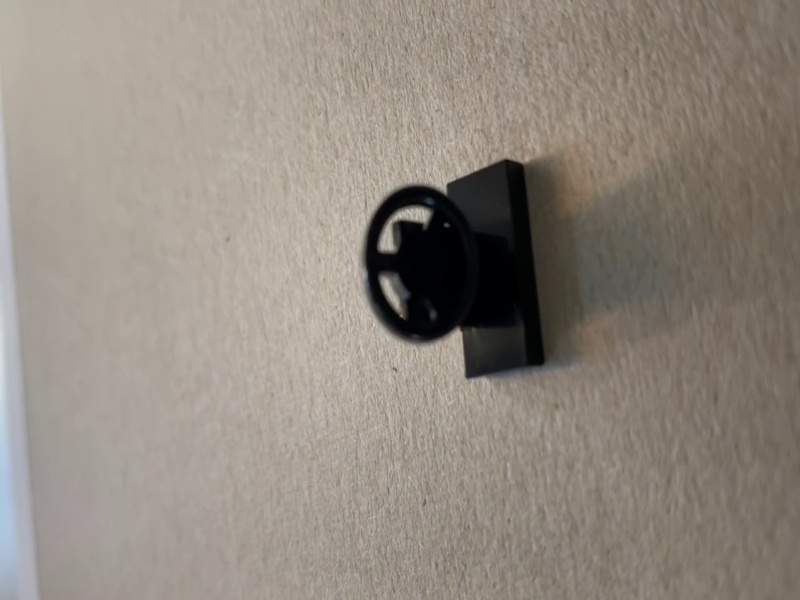steering wheel: (363, 158, 549, 381)
